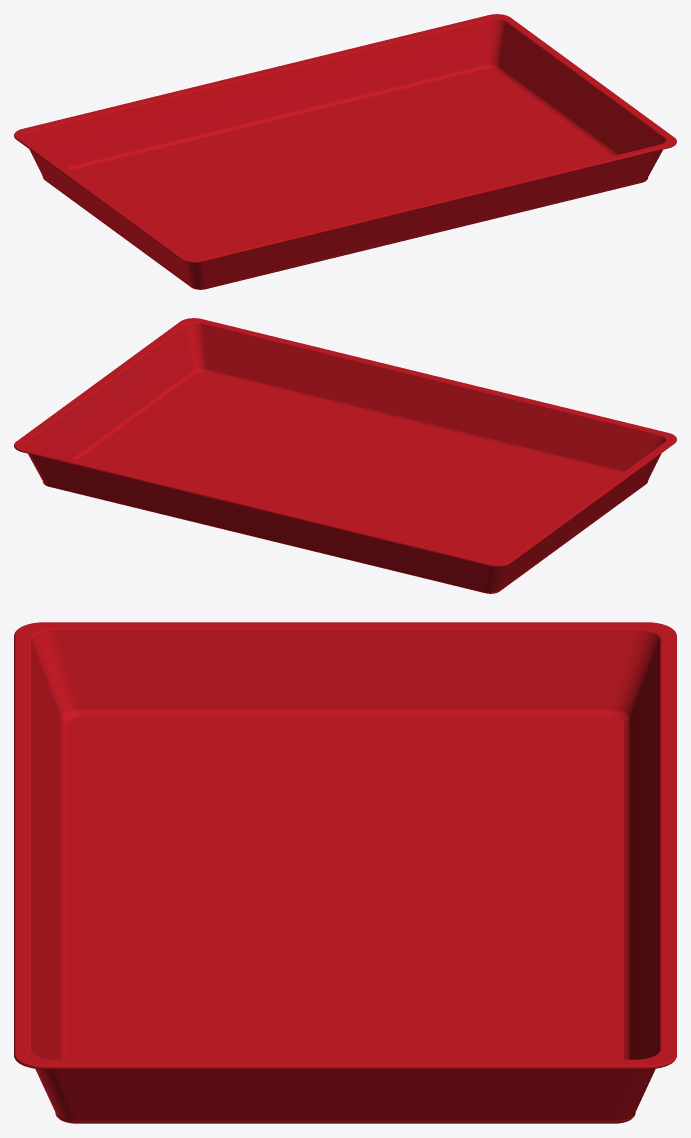
Rendered from defect-tool-isolation-tray.glb.
3 renders of one model, top to bottom at view 1: azimuth 30°, elevation 25°; view 2: azimuth 150°, elevation 25°; view 3: azimuth 270°, elevation 25°, orthographic. The views are drawn at different scales.
Parts seen in each view (by area): view 1: tray_exact_evaluated_shell; view 2: tray_exact_evaluated_shell; view 3: tray_exact_evaluated_shell.
Boxes of the visible parts, x1,y1,x2,y2 form: tray_exact_evaluated_shell: [14, 14, 676, 289]; tray_exact_evaluated_shell: [14, 318, 676, 593]; tray_exact_evaluated_shell: [14, 622, 676, 1123].
Size of the model in its own units: 0.487 by 0.0392 by 0.307.
